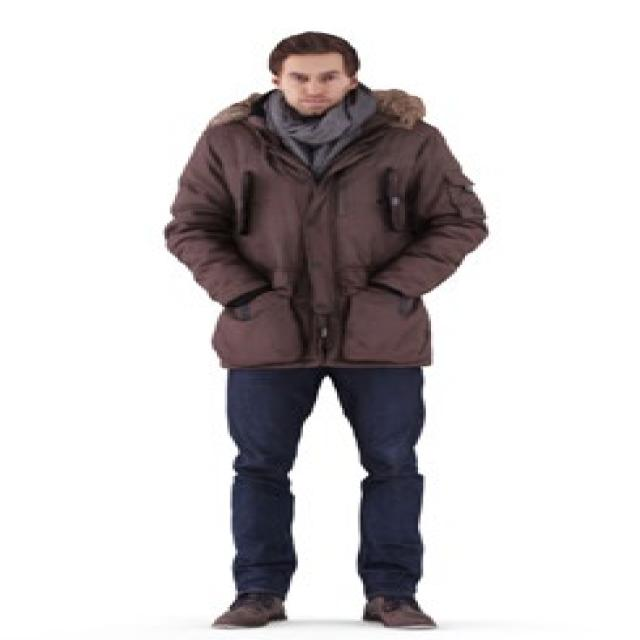standing: (161, 30, 502, 631)
